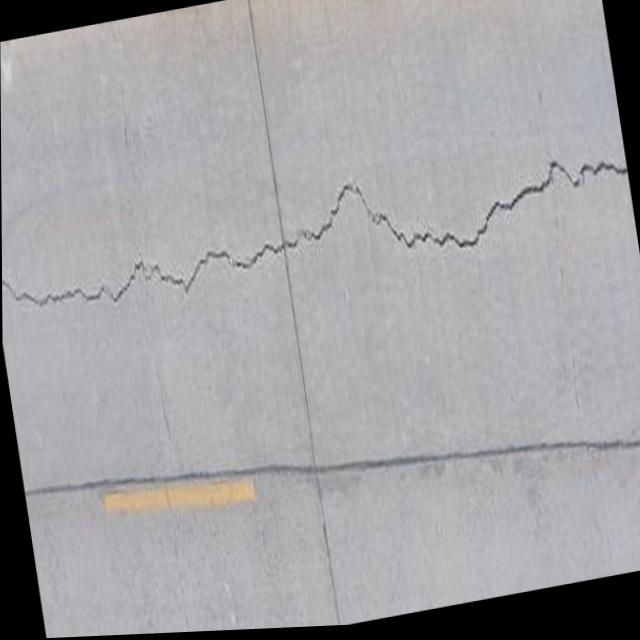Crack: (1, 97, 640, 381)
